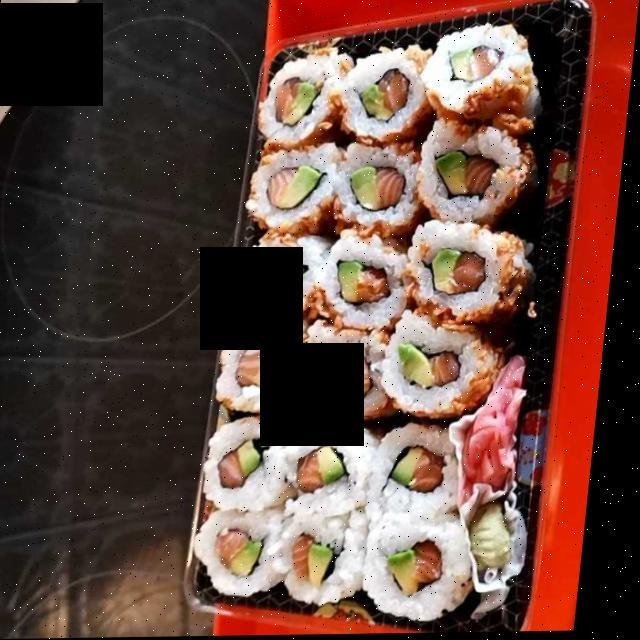sushi: (195, 24, 539, 622)
